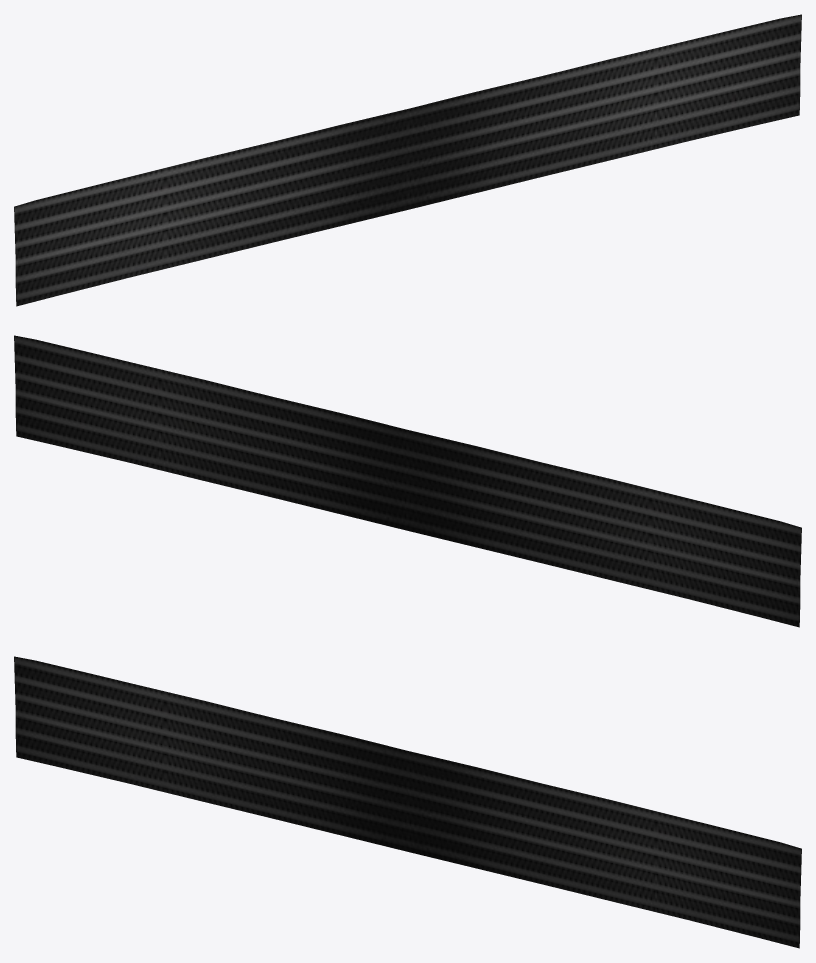
Rendered from tex.glb.
3 views of the same model, one above another, from view 1: azimuth 30°, elevation 25°; view 2: azimuth 150°, elevation 25°; view 3: azimuth 330°, elevation 25° (orthographic).
Parts seen in each view (by area): view 1: tex; view 2: tex; view 3: tex.
Boxes of the visible parts, x1,y1,x2,y2 form: tex: (14, 14, 801, 306); tex: (14, 335, 801, 627); tex: (14, 656, 801, 948).
Bounding box in the file's own units: 0.6621 × 0.0823 × 4.77e-07.
1 material, 1 textured.
